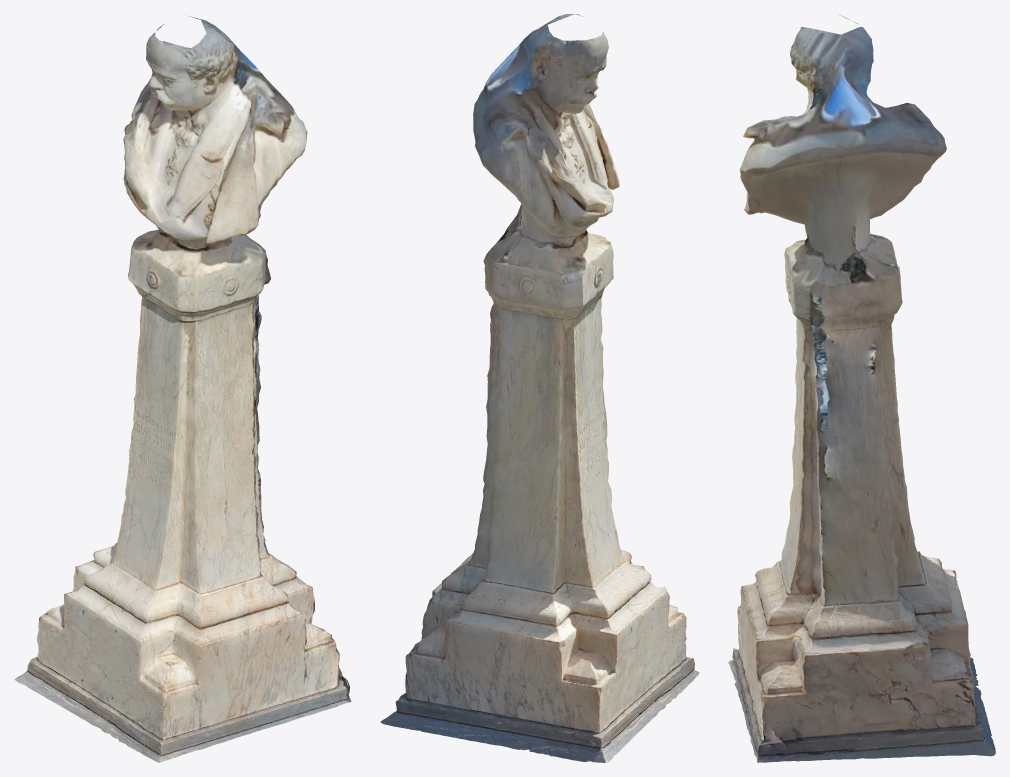
The model's file is 3Ddata.glb.
3 renders of one model, left to right at view 1: azimuth 30°, elevation 25°; view 2: azimuth 150°, elevation 25°; view 3: azimuth 270°, elevation 25°, orthographic.
Visible parts, largest first — view 1: 8d6a96d3-bee9-4fe7-b7a8-8db2129b926a; view 2: 8d6a96d3-bee9-4fe7-b7a8-8db2129b926a; view 3: 8d6a96d3-bee9-4fe7-b7a8-8db2129b926a.
Boxes of the visible parts, bbox=[...] form: 8d6a96d3-bee9-4fe7-b7a8-8db2129b926a: bbox=[14, 16, 351, 762]; 8d6a96d3-bee9-4fe7-b7a8-8db2129b926a: bbox=[380, 14, 699, 762]; 8d6a96d3-bee9-4fe7-b7a8-8db2129b926a: bbox=[728, 14, 995, 762].
Size of the model in its own units: 0.3507 by 0.9718 by 0.3482.
1 material, 1 textured.
